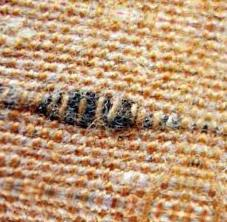slub: (0, 84, 226, 137)
